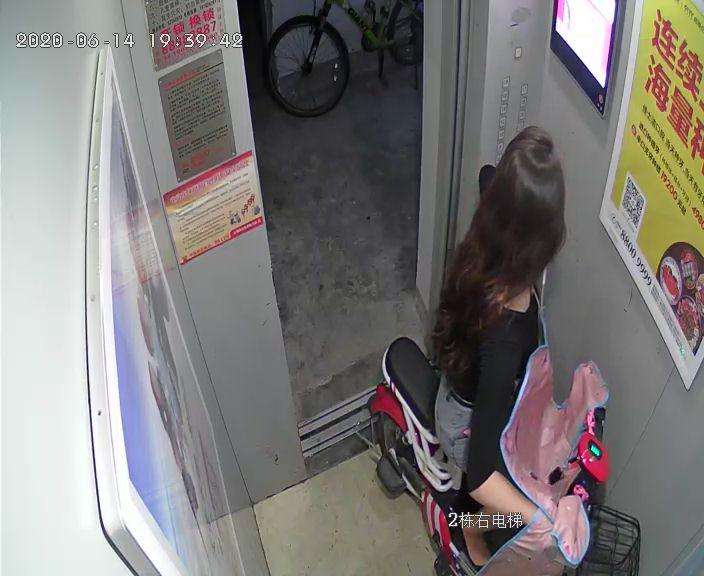Electric-bicycle: (355, 337, 645, 574)
